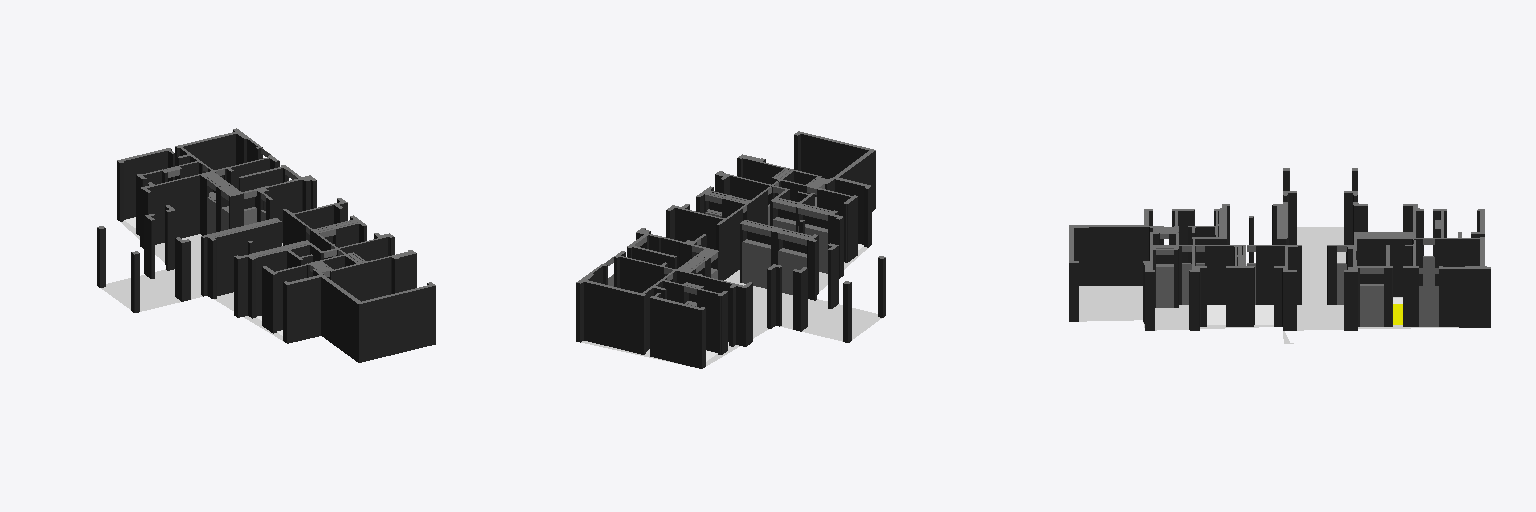
The model's file is b7fde922-f577-4653-bece-f8e4b610ff30.obj.
3 renders of one model, left to right at view 1: azimuth 30°, elevation 25°; view 2: azimuth 150°, elevation 25°; view 3: azimuth 270°, elevation 25°, orthographic.
Parts seen in each view (by area): view 1: Box13Wall242, Floor, Box14Wall260, Box13Wall241, Box17Wall337, Box13Wall240, Box7Wall130, Box10Wall197, Box8Wall160, Box1Wall16, Box15Wall292, Box0Wall0 (+8 smaller); view 2: Box8Wall170, Floor, Box10Wall204, Box13Wall246, Box3Wall58, Box3Wall55, Box6Wall118, Box57Wall229, Box11Wall216, Box13Wall241, Box61Wall245, Box14Wall281 (+6 smaller); view 3: Floor, Box13Wall247, Box8Wall167, Box14Wall275, Box4Wall72, Box4Wall60, Box8Wall159, Box3Wall45, Box32Wall130, Box6Wall114, Box1Wall22, Box3Wall52 (+6 smaller).
Part boxes in pixels (bbox=[...]): Box13Wall242: bbox=[359, 286, 435, 362]; Floor: bbox=[101, 217, 283, 341]; Box14Wall260: bbox=[147, 175, 199, 244]; Box13Wall241: bbox=[321, 277, 358, 362]; Box17Wall337: bbox=[215, 222, 281, 295]; Box13Wall240: bbox=[287, 277, 320, 343]; Box7Wall130: bbox=[331, 257, 390, 301]; Box10Wall197: bbox=[124, 151, 167, 219]; Box8Wall160: bbox=[183, 134, 235, 178]; Box1Wall16: bbox=[266, 180, 301, 242]; Box15Wall292: bbox=[256, 251, 286, 316]; Box0Wall0: bbox=[240, 168, 282, 208]; Box8Wall170: bbox=[584, 282, 643, 354]; Floor: bbox=[581, 244, 881, 367]; Box10Wall204: bbox=[650, 298, 701, 368]; Box13Wall246: bbox=[801, 134, 868, 178]; Box3Wall58: bbox=[719, 209, 742, 280]; Box3Wall55: bbox=[675, 208, 722, 253]; Box6Wall118: bbox=[620, 257, 664, 292]; Box57Wall229: bbox=[742, 242, 770, 288]; Box11Wall216: bbox=[697, 289, 717, 352]; Box13Wall241: bbox=[839, 151, 875, 211]; Box61Wall245: bbox=[778, 251, 806, 294]; Box14Wall281: bbox=[677, 271, 731, 341]; Floor: bbox=[1079, 227, 1458, 343]; Box13Wall247: bbox=[1074, 227, 1148, 285]; Box8Wall167: bbox=[1439, 269, 1490, 327]; Box14Wall275: bbox=[1357, 239, 1411, 296]; Box4Wall72: bbox=[1226, 268, 1253, 326]; Box4Wall60: bbox=[1205, 246, 1233, 304]; Box8Wall159: bbox=[1434, 239, 1479, 285]; Box3Wall45: bbox=[1256, 246, 1284, 304]; Box32Wall130: bbox=[1360, 286, 1383, 326]; Box6Wall114: bbox=[1403, 268, 1418, 326]; Box1Wall22: bbox=[1344, 272, 1357, 330]; Box3Wall52: bbox=[1283, 272, 1296, 330].
Size of the model in its own units: 10.66 by 2.5 by 16.24.